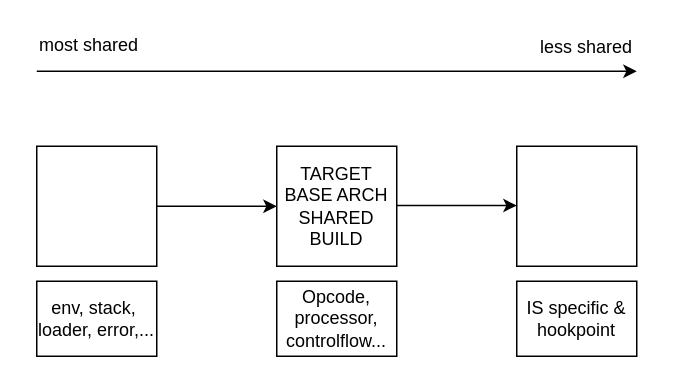
Some shapes in this 675 by 383 pixel diagram are drawn without their labels. The shapes that lost their labels are listed below. From the top down, each one's centre as x and y in pixels, then its label:
At (96,205): "ROOT PROJECT BUILD".
At (576,205): "SPECIFIC TARGET BUILD".
